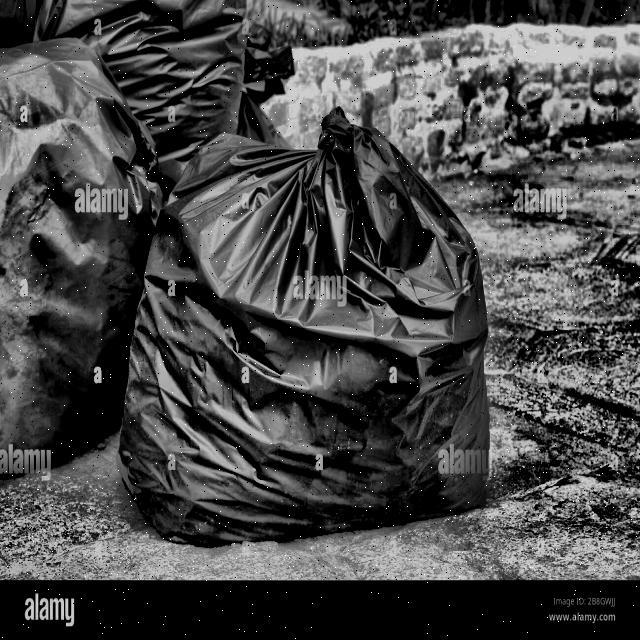Trashbag: (114, 107, 498, 551), (0, 32, 163, 485)
